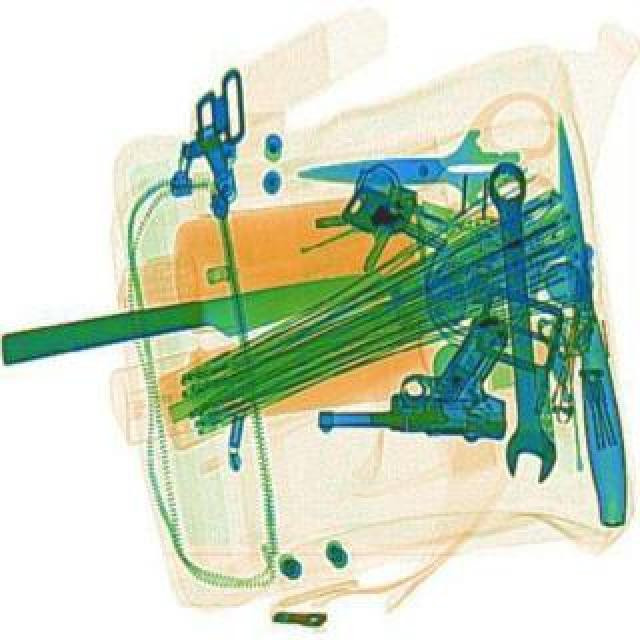gun: (316, 308, 508, 440)
knife: (0, 268, 388, 370), (544, 110, 632, 524), (294, 124, 522, 208)
scissors: (482, 158, 556, 482)
